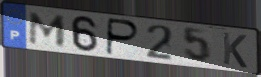2: (145, 24, 175, 61)
5: (181, 26, 214, 67)
6: (70, 15, 101, 54)
K: (221, 31, 249, 70)
M: (27, 11, 68, 49)
P: (105, 17, 142, 57)
